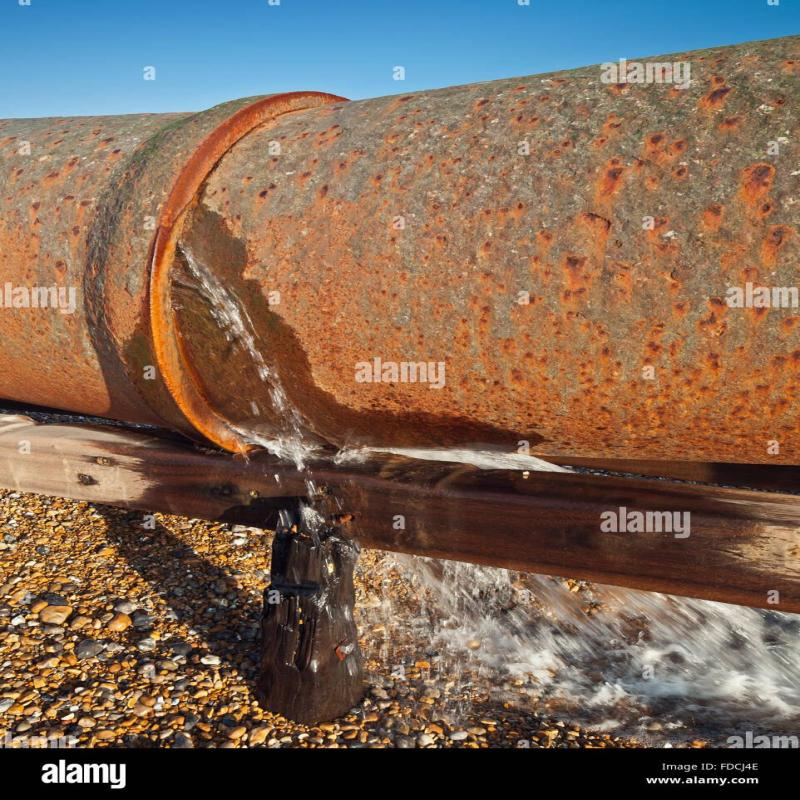Fracture: (125, 224, 371, 502)
